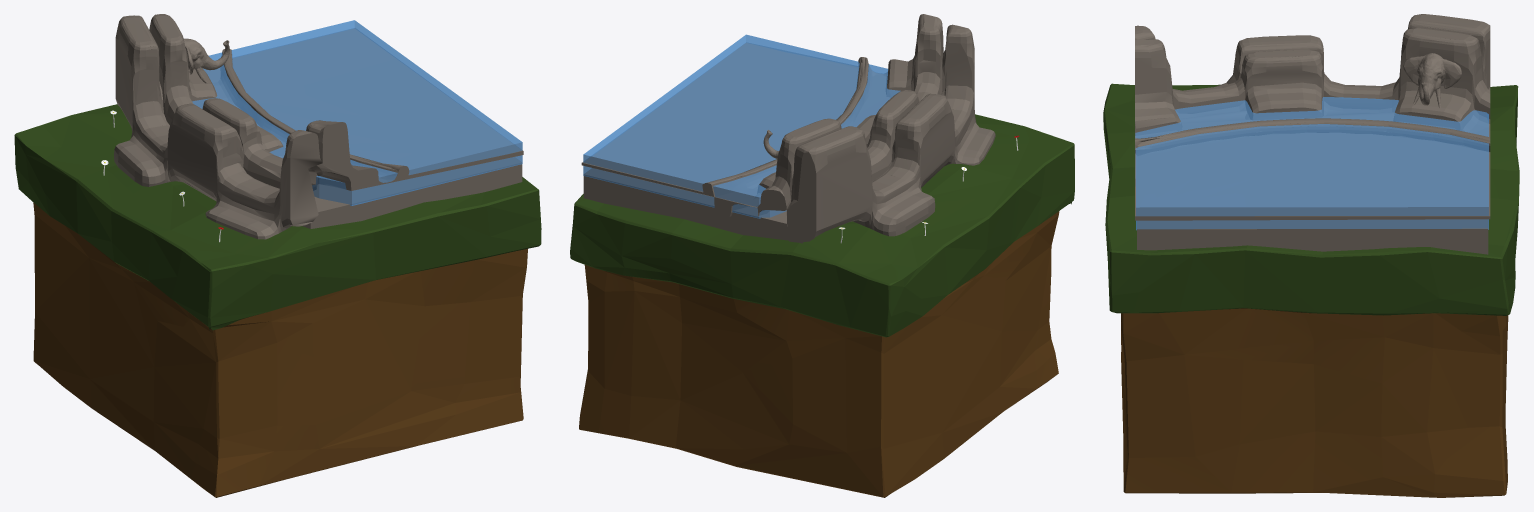
The model's file is M3.min.gltf.
3 renders of one model, left to right at view 1: azimuth 30°, elevation 25°; view 2: azimuth 150°, elevation 25°; view 3: azimuth 270°, elevation 25°, orthographic. The views are drawn at different scales.
Parts seen in each view (by area): view 1: CENTERED.016; view 2: CENTERED.016; view 3: CENTERED.016.
Part boxes in pixels (x1,y1,x2,y2): CENTERED.016: (14,14,541,497); CENTERED.016: (570,14,1074,497); CENTERED.016: (1103,14,1519,497).
Size of the model in its own units: 1.07 by 1.04 by 1.09.
